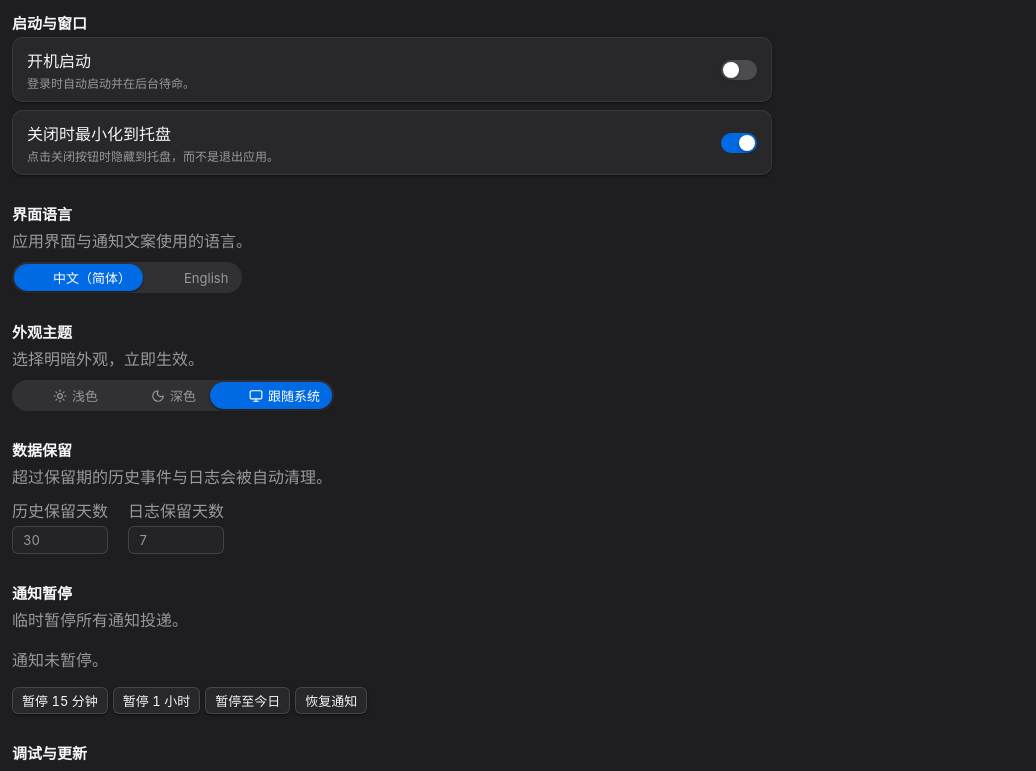
it: pause uses setNotificationPause; resume clears it and shows paused_until
Click the button "暂停 15 分钟".
click(60, 700)  # box [12, 687, 108, 714]
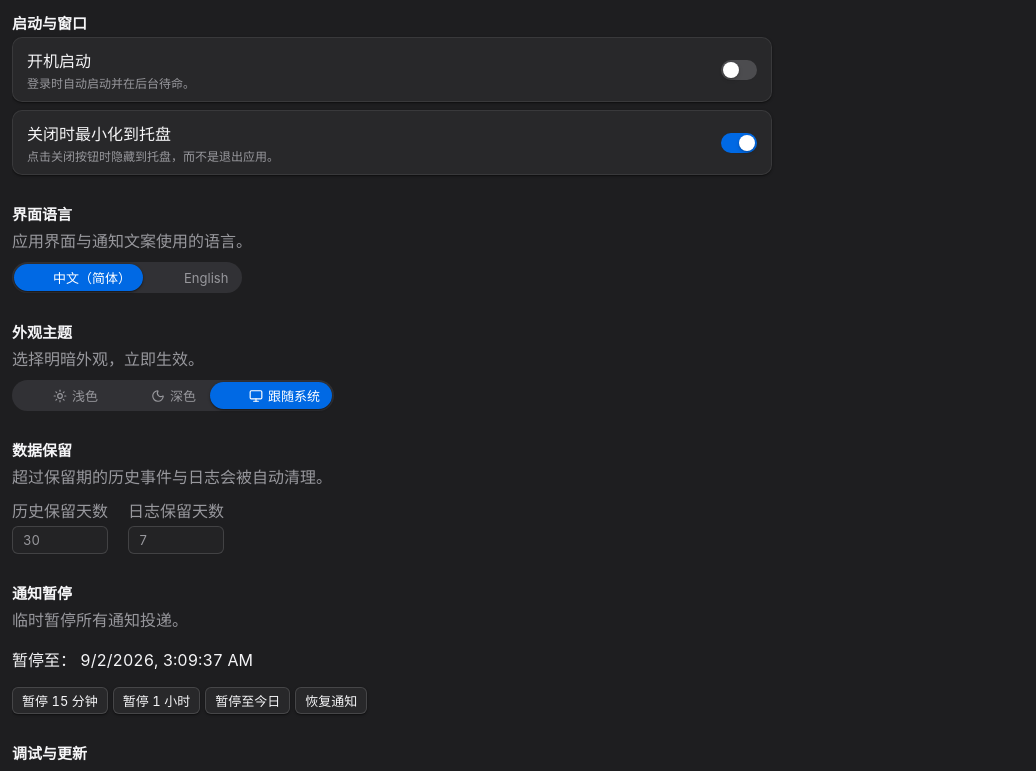
Expected: the text "暂停至： 9/2/2026, 3:09:37 AM" is shown, [12, 650, 253, 670]
Click the button "恢复通知".
click(331, 700)  # box [295, 687, 367, 714]
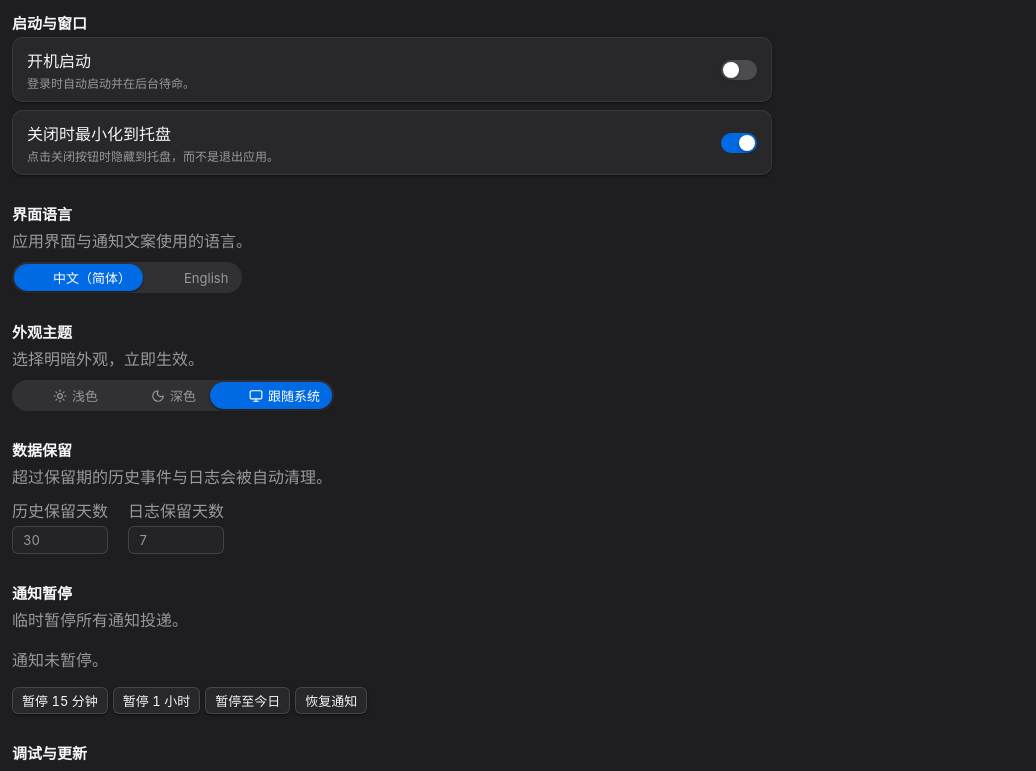
Expected: the text "通知未暂停。" is shown, [12, 650, 108, 670]
